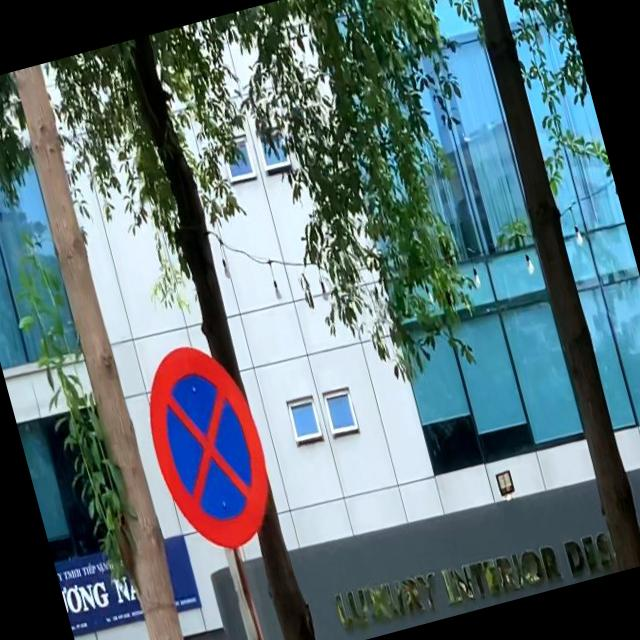P-130: (132, 333, 283, 558)
